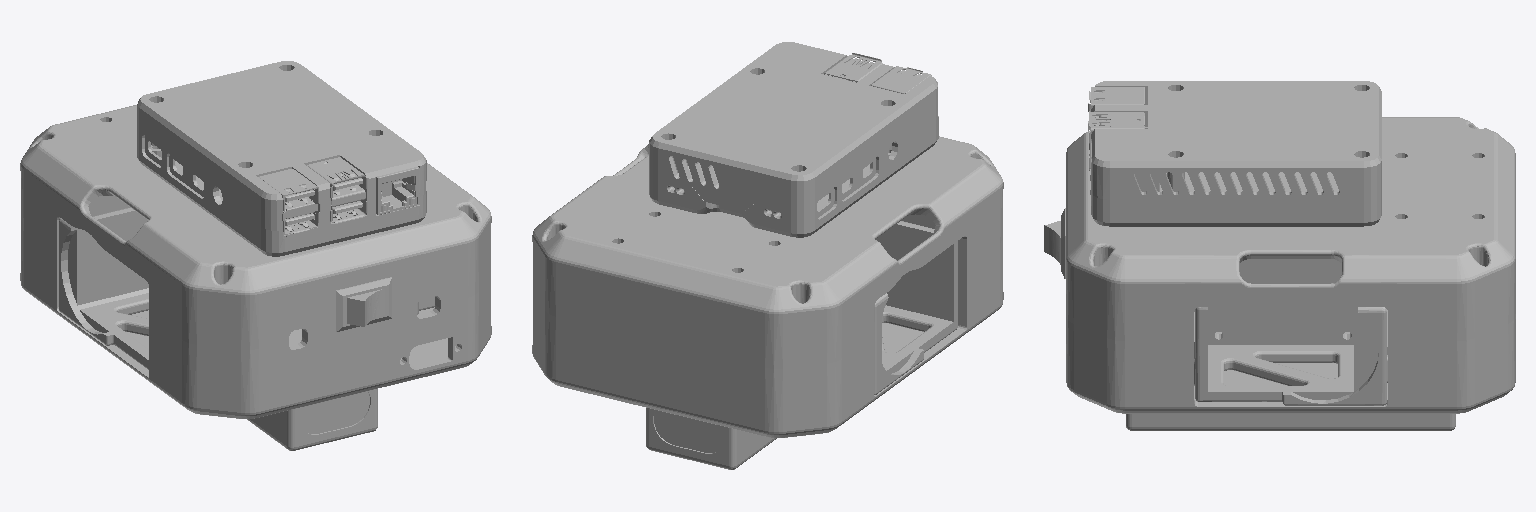
URDF robot description (crazydog_urdf):
<?xml version="1.0" encoding="utf-8"?>
<!-- This URDF was automatically created by SolidWorks to URDF Exporter! Originally created by [author] ([email redacted]) 
     Commit Version: 1.6.0-4-g7f85cfe  Build Version: 1.6.7995.38578
     For more information, please see http://wiki.ros.org/sw_urdf_exporter -->
<robot
  name="crazydog_urdf">
  <mujoco>
  <compiler
    meshdir="[local-path]/robot_model/crazydog_urdf/meshes"
    balanceinertia="true"
    discardvisual="false" />
  </mujoco>
  <link
    name="base_link">
    <inertial>
      <origin
        xyz="-0.029918 -1.7786E-06 -0.025244"
        rpy="0 0 0" />
      <mass
        value="0.62" />
      <inertia
        ixx="0.0014316"
        ixy="2.0189E-08"
        ixz="-7.4946E-05"
        iyy="0.0022988"
        iyz="-3.8781E-09"
        izz="0.0023924" />
    </inertial>
    <visual>
      <origin
        xyz="0 0 0"
        rpy="0 0 0" />
      <geometry>
        <mesh
          filename="package://crazydog_urdf/meshes/base_link.STL" />
      </geometry>
      <material
        name="">
        <color
          rgba="0.74902 0.74902 0.74902 1" />
      </material>
    </visual>
    <collision>
      <origin
        xyz="0 0 0"
        rpy="0 0 0" />
      <geometry>
        <mesh
          filename="package://crazydog_urdf/meshes/base_link.STL" />
      </geometry>
    </collision>
  </link>
  <link
    name="R_hip_fix">
    <inertial>
      <origin
        xyz="-0.071968 -0.056165 -9.0424E-05"
        rpy="0 0 0" />
      <mass
        value="0.536" />
      <inertia
        ixx="0.00021465"
        ixy="2.2372E-07"
        ixz="-2.4475E-07"
        iyy="0.00012408"
        iyz="-3.0046E-07"
        izz="0.00012018" />
    </inertial>
    <visual>
      <origin
        xyz="0 0 0"
        rpy="0 0 0" />
      <geometry>
        <mesh
          filename="package://crazydog_urdf/meshes/R_hip_fix.STL" />
      </geometry>
      <material
        name="">
        <color
          rgba="0.62745 0.62745 0.62745 1" />
      </material>
    </visual>
    <collision>
      <origin
        xyz="0 0 0"
        rpy="0 0 0" />
      <geometry>
        <mesh
          filename="package://crazydog_urdf/meshes/R_hip_fix.STL" />
      </geometry>
    </collision>
  </link>
  <joint
    name="R_hip_fix"
    type="fixed">
    <origin
      xyz="0 0 0"
      rpy="0 0 0" />
    <parent
      link="base_link" />
    <child
      link="R_hip_fix" />
    <axis
      xyz="0 0 0" />
  </joint>
  <link
    name="R_hip">
    <inertial>
      <origin
        xyz="0.050012 -0.00066363 -8.4178E-05"
        rpy="0 0 0" />
      <mass
        value="0.573" />
      <inertia
        ixx="0.00013072"
        ixy="3.3092E-06"
        ixz="3.5562E-07"
        iyy="0.00024737"
        iyz="2.3793E-07"
        izz="0.00015128" />
    </inertial>
    <visual>
      <origin
        xyz="0 0 0"
        rpy="0 0 0" />
      <geometry>
        <mesh
          filename="package://crazydog_urdf/meshes/R_hip.STL" />
      </geometry>
      <material
        name="">
        <color
          rgba="0.62745 0.62745 0.62745 1" />
      </material>
    </visual>
    <collision>
      <origin
        xyz="0 0 0"
        rpy="0 0 0" />
      <geometry>
        <mesh
          filename="package://crazydog_urdf/meshes/R_hip.STL" />
      </geometry>
    </collision>
  </link>
  <joint
    name="R_base2hip"
    type="fixed">
    <origin
      xyz="-0.0532503843026156 -0.0562499999999237 0"
      rpy="0 0 0" />
    <parent
      link="R_hip_fix" />
    <child
      link="R_hip" />
    <axis
      xyz="1 0 0" />
  </joint>
  <link
    name="R_thigh">
    <inertial>
      <origin
        xyz="-6.2352E-05 -0.039508 -0.021371"
        rpy="0 0 0" />
      <mass
        value="0.9105" />
      <inertia
        ixx="0.0014519"
        ixy="3.2371E-07"
        ixz="1.5994E-08"
        iyy="0.0014985"
        iyz="-0.00020329"
        izz="0.00038047" />
    </inertial>
    <visual>
      <origin
        xyz="0 0 0"
        rpy="0 0 0" />
      <geometry>
        <mesh
          filename="package://crazydog_urdf/meshes/R_thigh.STL" />
      </geometry>
      <material
        name="">
        <color
          rgba="0.62745 0.62745 0.62745 1" />
      </material>
    </visual>
    <collision>
      <origin
        xyz="0 0 0"
        rpy="0 0 0" />
      <geometry>
        <mesh
          filename="package://crazydog_urdf/meshes/R_thigh.STL" />
      </geometry>
    </collision>
  </link>
  <joint
    name="R_hip2thigh"
    type="revolute">
    <origin
      xyz="0.0532503843026156 -0.0199500639394125 0"
      rpy="0 0 0" />
    <parent
      link="R_hip" />
    <child
      link="R_thigh" />
    <axis
      xyz="0 1 0" />
    <limit
      lower="0.0"
      upper="1.57"
      effort="23.7"
      velocity="30.0" />
  </joint>
  <link
    name="R_calf">
    <inertial>
      <origin
        xyz="1.5378E-05 -0.0082389 -0.16157"
        rpy="0 0 0" />
      <mass
        value="0.555" />
      <inertia
        ixx="0.001409"
        ixy="-6.9198E-08"
        ixz="-1.1379E-06"
        iyy="0.0014225"
        iyz="-9.5527E-05"
        izz="8.2502E-05" />
    </inertial>
    <visual>
      <origin
        xyz="0 0 0"
        rpy="0 0 0" />
      <geometry>
        <mesh
          filename="package://crazydog_urdf/meshes/R_calf.STL" />
      </geometry>
      <material
        name="">
        <color
          rgba="1 1 1 1" />
      </material>
    </visual>
    <collision>
      <origin
        xyz="0 0 0"
        rpy="0 0 0" />
      <geometry>
        <mesh
          filename="package://crazydog_urdf/meshes/R_calf.STL" />
      </geometry>
    </collision>
  </link>
  <joint
    name="R_thigh2calf"
    type="revolute">
    <origin
      xyz="0 -0.0637999997592934 -0.21499974091937"
      rpy="0 0 0" />
    <parent
      link="R_thigh" />
    <child
      link="R_calf" />
    <axis
      xyz="0 1 0" />
    <limit
      lower="-2.61"
      upper="0.0"
      effort="23.7"
      velocity="30.0" />
  </joint>
  <link
    name="R_wheel">
    <inertial>
      <origin
        xyz="-1.6115E-14 -0.0042663 -5.2525E-13"
        rpy="0 0 0" />
      <mass
        value="0.2805" />
      <inertia
        ixx="0.00029524"
        ixy="1.812E-19"
        ixz="2.5527E-19"
        iyy="0.00057738"
        iyz="-9.2577E-19"
        izz="0.00029524" />
    </inertial>
    <visual>
      <origin
        xyz="0 0 0"
        rpy="0 0 0" />
      <geometry>
        <mesh
          filename="package://crazydog_urdf/meshes/R_wheel.STL" />
      </geometry>
      <material
        name="">
        <color
          rgba="0.15294 0.15294 0.15294 1" />
      </material>
    </visual>
    <collision>
      <origin
        xyz="0 0 0"
        rpy="0 0 0" />
      <geometry>
        <mesh
          filename="package://crazydog_urdf/meshes/R_wheel.STL" />
      </geometry>
    </collision>
  </link>
  <joint
    name="R_calf2wheel"
    type="continuous">
    <origin
      xyz="0 -0.0245499999999997 -0.214999987347139"
      rpy="0 0 0" />
    <parent
      link="R_calf" />
    <child
      link="R_wheel" />
    <axis
      xyz="0 1 0" />
  </joint>
  <link
    name="L_hip_fix">
    <inertial>
      <origin
        xyz="-0.071968 0.056335 -9.0424E-05"
        rpy="0 0 0" />
      <mass
        value="0.536" />
      <inertia
        ixx="0.00021465"
        ixy="2.2372E-07"
        ixz="-2.4475E-07"
        iyy="0.00012408"
        iyz="-3.0046E-07"
        izz="0.00012018" />
    </inertial>
    <visual>
      <origin
        xyz="0 0 0"
        rpy="0 0 0" />
      <geometry>
        <mesh
          filename="package://crazydog_urdf/meshes/L_hip_fix.STL" />
      </geometry>
      <material
        name="">
        <color
          rgba="0.62745 0.62745 0.62745 1" />
      </material>
    </visual>
    <collision>
      <origin
        xyz="0 0 0"
        rpy="0 0 0" />
      <geometry>
        <mesh
          filename="package://crazydog_urdf/meshes/L_hip_fix.STL" />
      </geometry>
    </collision>
  </link>
  <joint
    name="L_hip_fix"
    type="fixed">
    <origin
      xyz="0 0 0"
      rpy="0 0 0" />
    <parent
      link="base_link" />
    <child
      link="L_hip_fix" />
    <axis
      xyz="0 0 0" />
  </joint>
  <link
    name="L_hip">
    <inertial>
      <origin
        xyz="0.050012 0.00066363 -8.4173E-05"
        rpy="0 0 0" />
      <mass
        value="0.573" />
      <inertia
        ixx="0.00013072"
        ixy="-3.3093E-06"
        ixz="3.5551E-07"
        iyy="0.00024737"
        iyz="-2.3794E-07"
        izz="0.00015128" />
    </inertial>
    <visual>
      <origin
        xyz="0 0 0"
        rpy="0 0 0" />
      <geometry>
        <mesh
          filename="package://crazydog_urdf/meshes/L_hip.STL" />
      </geometry>
      <material
        name="">
        <color
          rgba="0.62745 0.62745 0.62745 1" />
      </material>
    </visual>
    <collision>
      <origin
        xyz="0 0 0"
        rpy="0 0 0" />
      <geometry>
        <mesh
          filename="package://crazydog_urdf/meshes/L_hip.STL" />
      </geometry>
    </collision>
  </link>
  <joint
    name="L_base2hip"
    type="fixed">
    <origin
      xyz="-0.0532503843026153 0.0562500000000755 0"
      rpy="0 0 0" />
    <parent
      link="L_hip_fix" />
    <child
      link="L_hip" />
    <axis
      xyz="1 0 0" />
  </joint>
  <link
    name="L_thigh">
    <inertial>
      <origin
        xyz="-6.238E-05 0.039508 -0.021371"
        rpy="0 0 0" />
      <mass
        value="0.9105" />
      <inertia
        ixx="0.0014519"
        ixy="-3.2377E-07"
        ixz="1.5912E-08"
        iyy="0.0014985"
        iyz="0.00020329"
        izz="0.00038047" />
    </inertial>
    <visual>
      <origin
        xyz="0 0 0"
        rpy="0 0 0" />
      <geometry>
        <mesh
          filename="package://crazydog_urdf/meshes/L_thigh.STL" />
      </geometry>
      <material
        name="">
        <color
          rgba="0.62745 0.62745 0.62745 1" />
      </material>
    </visual>
    <collision>
      <origin
        xyz="0 0 0"
        rpy="0 0 0" />
      <geometry>
        <mesh
          filename="package://crazydog_urdf/meshes/L_thigh.STL" />
      </geometry>
    </collision>
  </link>
  <joint
    name="L_hip2thigh"
    type="revolute">
    <origin
      xyz="0.0532503843026148 0.0199500639396405 0"
      rpy="0 0 0" />
    <parent
      link="L_hip" />
    <child
      link="L_thigh" />
    <axis
      xyz="0 1 0" />
    <limit
      lower="0.0"
      upper="1.57"
      effort="23.7"
      velocity="30.0" />
  </joint>
  <link
    name="L_calf">
    <inertial>
      <origin
        xyz="1.6296E-05 0.0082388 -0.16158"
        rpy="0 0 0" />
      <mass
        value="0.555" />
      <inertia
        ixx="0.0014089"
        ixy="7.03E-08"
        ixz="-1.1423E-06"
        iyy="0.0014225"
        iyz="9.5525E-05"
        izz="8.2514E-05" />
    </inertial>
    <visual>
      <origin
        xyz="0 0 0"
        rpy="0 0 0" />
      <geometry>
        <mesh
          filename="package://crazydog_urdf/meshes/L_calf.STL" />
      </geometry>
      <material
        name="">
        <color
          rgba="1 1 1 1" />
      </material>
    </visual>
    <collision>
      <origin
        xyz="0 0 0"
        rpy="0 0 0" />
      <geometry>
        <mesh
          filename="package://crazydog_urdf/meshes/L_calf.STL" />
      </geometry>
    </collision>
  </link>
  <joint
    name="L_thigh2calf"
    type="revolute">
    <origin
      xyz="0 0.0637999997593029 -0.214999740919375"
      rpy="0 0 0" />
    <parent
      link="L_thigh" />
    <child
      link="L_calf" />
    <axis
      xyz="0 1 0" />
    <limit
      lower="-2.61"
      upper="0.0"
      effort="23.7"
      velocity="30.0" />
  </joint>
  <link
    name="L_wheel">
    <inertial>
      <origin
        xyz="-1.8104E-14 0.0042663 -4.3743E-13"
        rpy="0 0 0" />
      <mass
        value="0.2805" />
      <inertia
        ixx="0.00029524"
        ixy="-1.6997E-18"
        ixz="-2.6717E-19"
        iyy="0.00057738"
        iyz="5.5957E-18"
        izz="0.00029524" />
    </inertial>
    <visual>
      <origin
        xyz="0 0 0"
        rpy="0 0 0" />
      <geometry>
        <mesh
          filename="package://crazydog_urdf/meshes/L_wheel.STL" />
      </geometry>
      <material
        name="">
        <color
          rgba="0.15294 0.15294 0.15294 1" />
      </material>
    </visual>
    <collision>
      <origin
        xyz="0 0 0"
        rpy="0 0 0" />
      <geometry>
        <mesh
          filename="package://crazydog_urdf/meshes/L_wheel.STL" />
      </geometry>
    </collision>
  </link>
  <joint
    name="L_calf2wheel"
    type="continuous">
    <origin
      xyz="0 0.0245500000000035 -0.214999987347138"
      rpy="0 0 0" />
    <parent
      link="L_calf" />
    <child
      link="L_wheel" />
    <axis
      xyz="0 1 0" />
  </joint>
  <link
    name="battery">
    <inertial>
      <origin
        xyz="0 0 0"
        rpy="0 0 0" />
      <mass
        value="0.672" />
      <inertia
        ixx="0"
        ixy="0"
        ixz="0"
        iyy="0"
        iyz="0"
        izz="0" />
    </inertial>
    <visual>
      <origin
        xyz="0 0 0"
        rpy="0 0 0" />
      <geometry>
        <mesh
          filename="package://crazydog_urdf/meshes/battery.STL" />
      </geometry>
      <material
        name="">
        <color
          rgba="1 1 1 1" />
      </material>
    </visual>
    <collision>
      <origin
        xyz="0 0 0"
        rpy="0 0 0" />
      <geometry>
        <mesh
          filename="package://crazydog_urdf/meshes/battery.STL" />
      </geometry>
    </collision>
  </link>
  <joint
    name="battery_fix"
    type="fixed">
    <origin
      xyz="0 0 0"
      rpy="0 0 0" />
    <parent
      link="base_link" />
    <child
      link="battery" />
    <axis
      xyz="0 0 0" />
  </joint>
</robot>

--- Render facts (derived) ---
Views: 3 orthographic renders of the robot side by side, from view 1: azimuth 30°, elevation 25°; view 2: azimuth 150°, elevation 25°; view 3: azimuth 270°, elevation 25°.
Robot: crazydog_urdf — 12 links, 11 joints (4 revolute, 2 continuous, 5 fixed); root link base_link; default pose: all joints at 0.
Links seen in each view (by area): view 1: base_link; view 2: base_link; view 3: base_link.
Link boxes in pixels (x1,y1,x2,y2): base_link: (20, 61, 491, 450); base_link: (532, 42, 1003, 469); base_link: (1044, 81, 1515, 430).
Size in the robot's own frame: 0.115 by 0.1468 by 0.1 metres.
Meshes: 12 distinct files referenced, 1 mesh visuals loaded (1 binary STL); not drawn: 11 (reference not matched to a file when rendering).